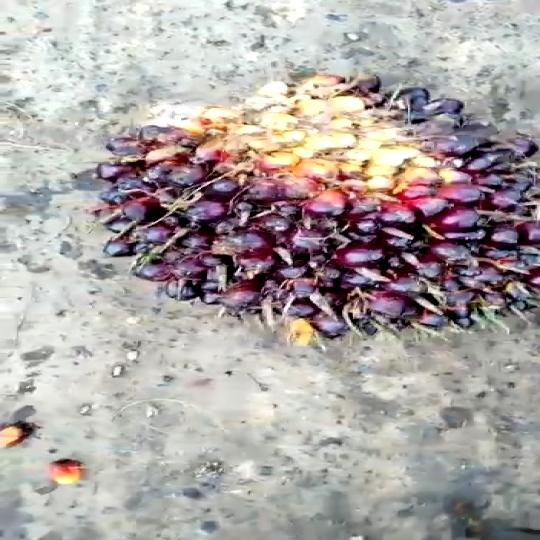mentah: (87, 68, 540, 341)
